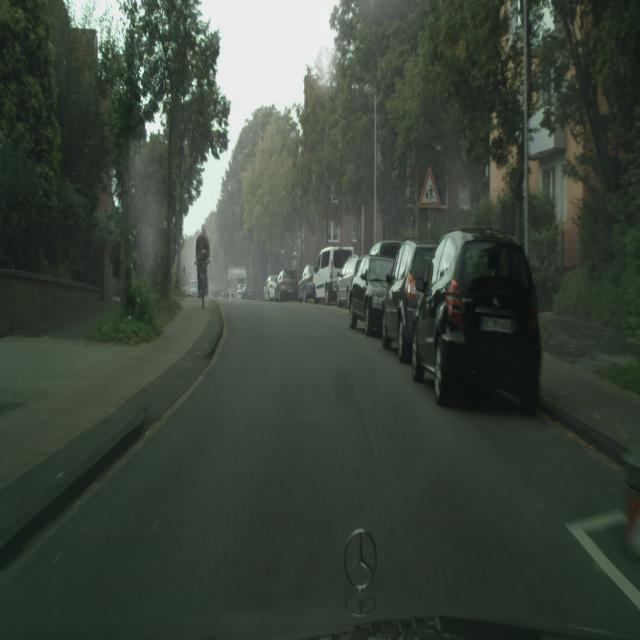person: (195, 224, 210, 310)
train: (227, 265, 247, 298)
truck: (411, 229, 542, 414), (381, 239, 436, 361), (349, 238, 402, 335), (312, 246, 355, 305), (336, 256, 360, 309), (275, 268, 299, 302), (298, 262, 316, 303), (263, 274, 278, 301), (237, 282, 255, 299)
